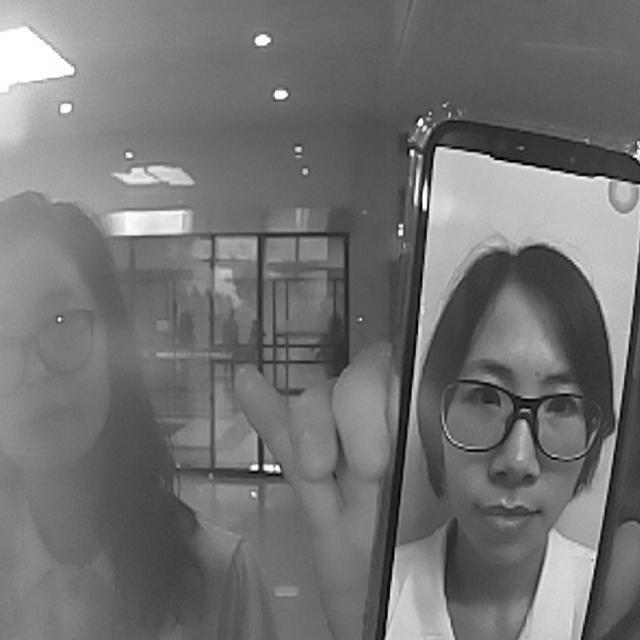fake: (368, 109, 640, 639)
